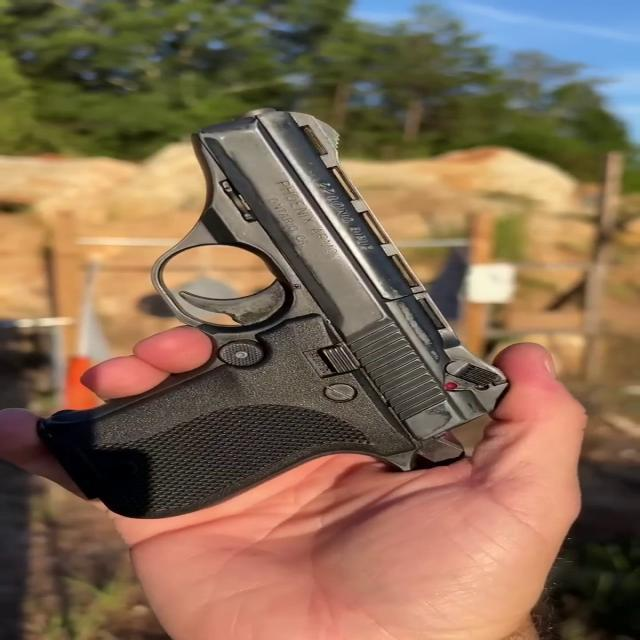Handgun: (34, 106, 514, 525)
